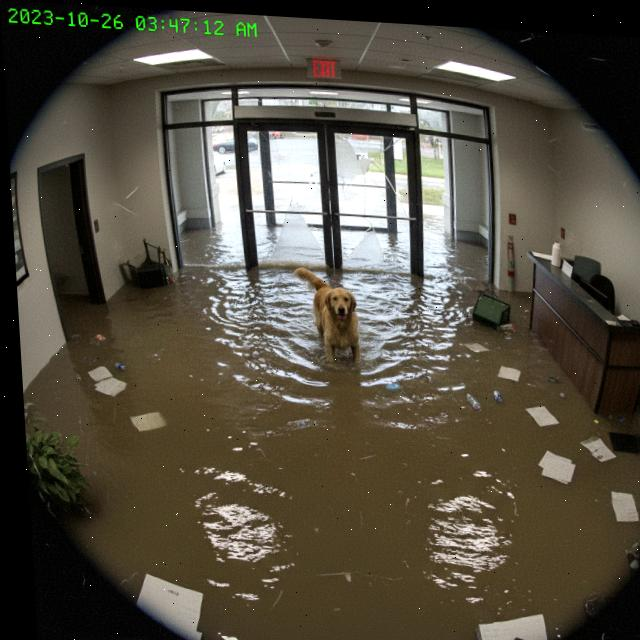dog: (284, 256, 379, 385)
